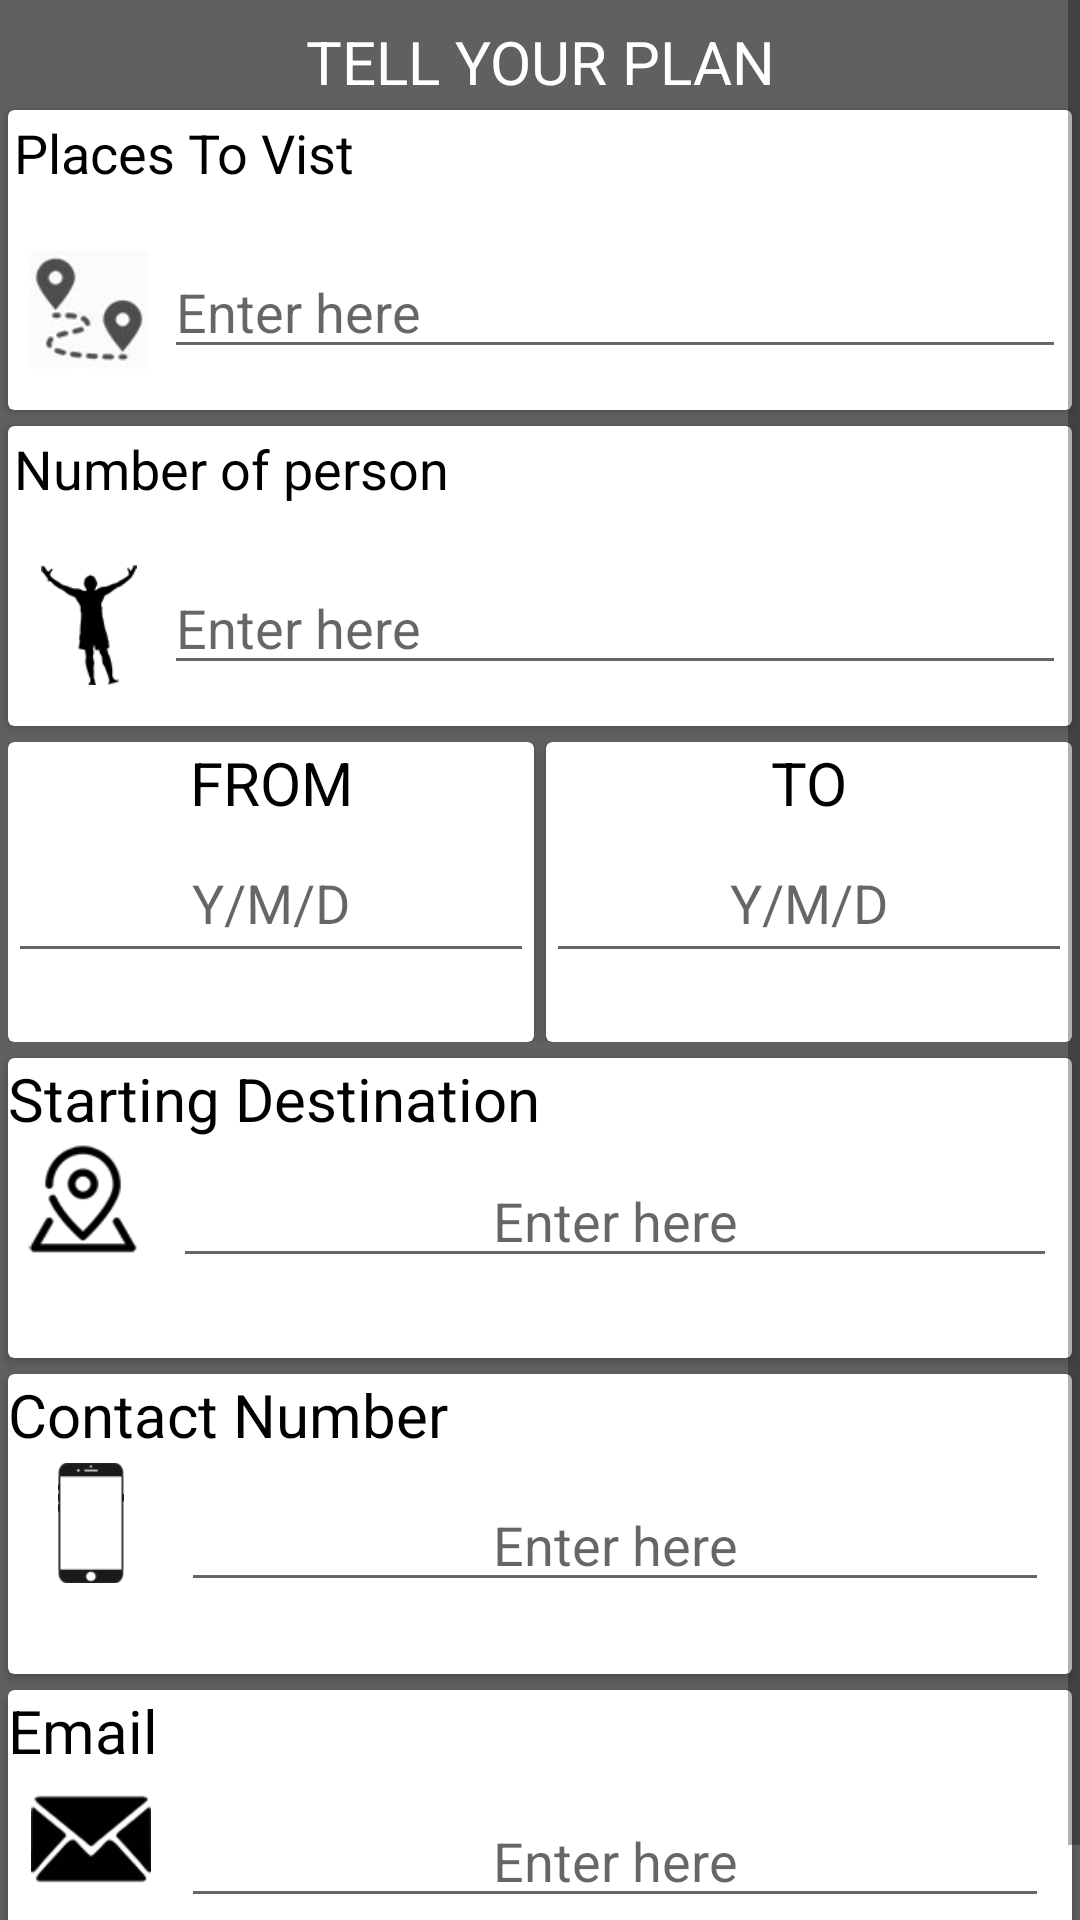

Named icons in this screenshot (1080 x 1920) and their bounding boxes, (x1, y1, x2, y2):
mobilepng: (58, 1463, 124, 1583)
yourlocation: (28, 1145, 137, 1253)
